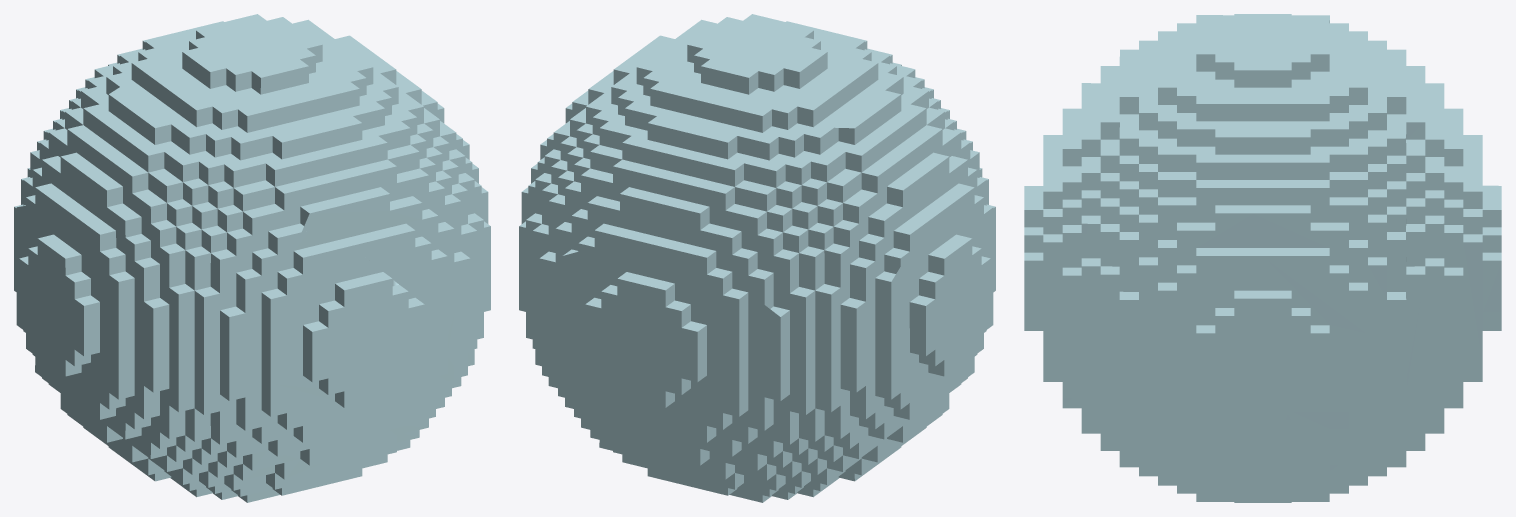
File: glass.glb
3 renders of one model, left to right at view 1: azimuth 30°, elevation 25°; view 2: azimuth 150°, elevation 25°; view 3: azimuth 270°, elevation 25°, orthographic. The views are drawn at different scales.
Visible parts, largest first — view 1: SM_GlassBall_01; view 2: SM_GlassBall_01; view 3: SM_GlassBall_01.
Boxes of the visible parts, x1,y1,x2,y2 form: SM_GlassBall_01: (14, 14, 490, 502); SM_GlassBall_01: (519, 14, 995, 502); SM_GlassBall_01: (1024, 14, 1501, 502).
Bounding box in the file's own units: 2.5 × 2.5 × 2.5.
